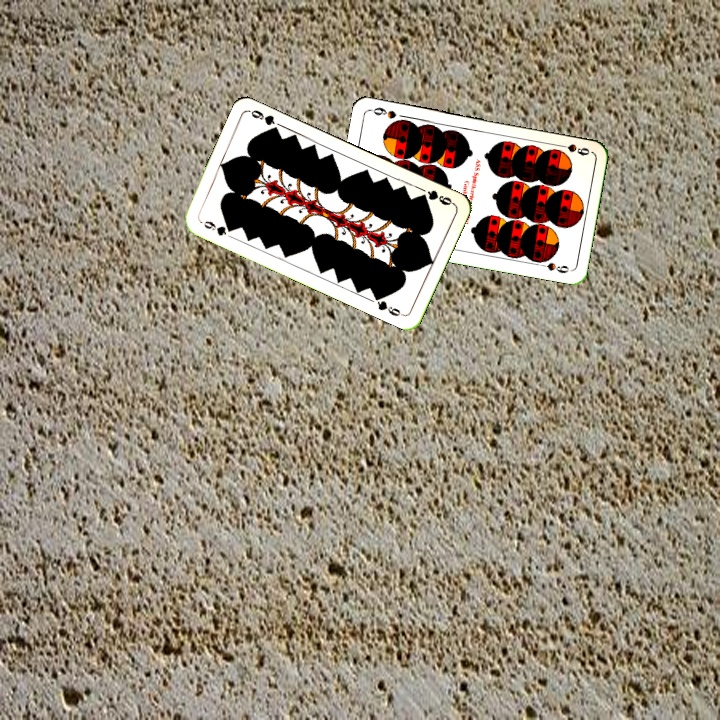G9: (415, 186, 456, 208), (200, 217, 236, 239)
S9: (552, 140, 592, 158)
